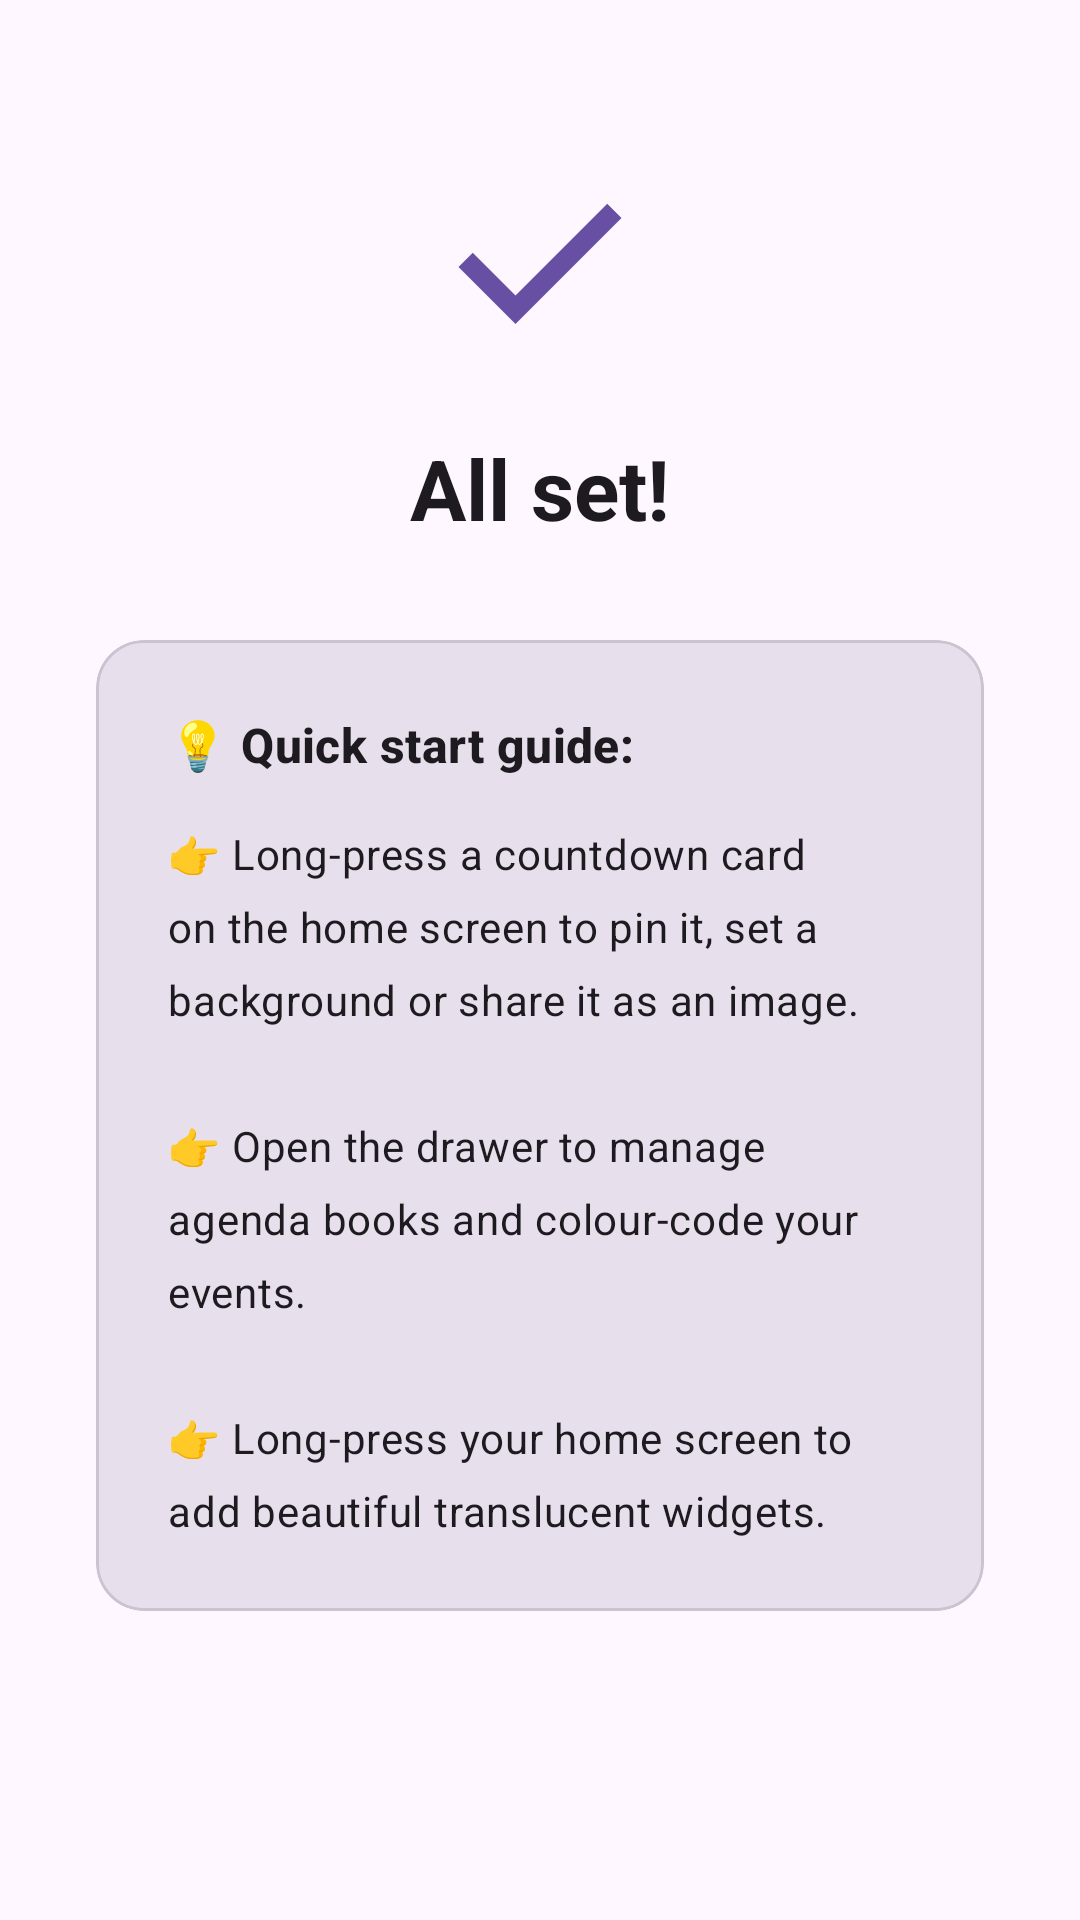

Icons on this 1080w x 1920h Android screen, each with its box as {"left": x1, "top": y1, "right": x2, "bottom": y2}:
check: {"left": 459, "top": 204, "right": 621, "bottom": 324}
